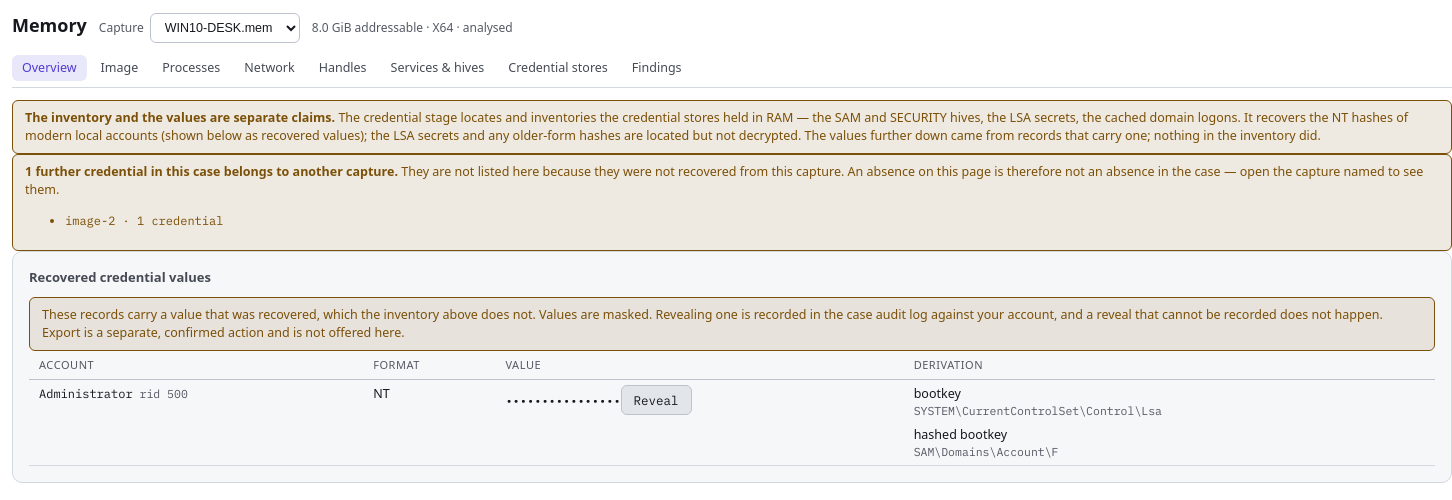
Test: MemoryCredentialsPage — recovered values › does not let one capture s in-flight reveal govern another capture s page (B3-056)
Click the button "Reveal": (656,400) [621, 385, 692, 415]
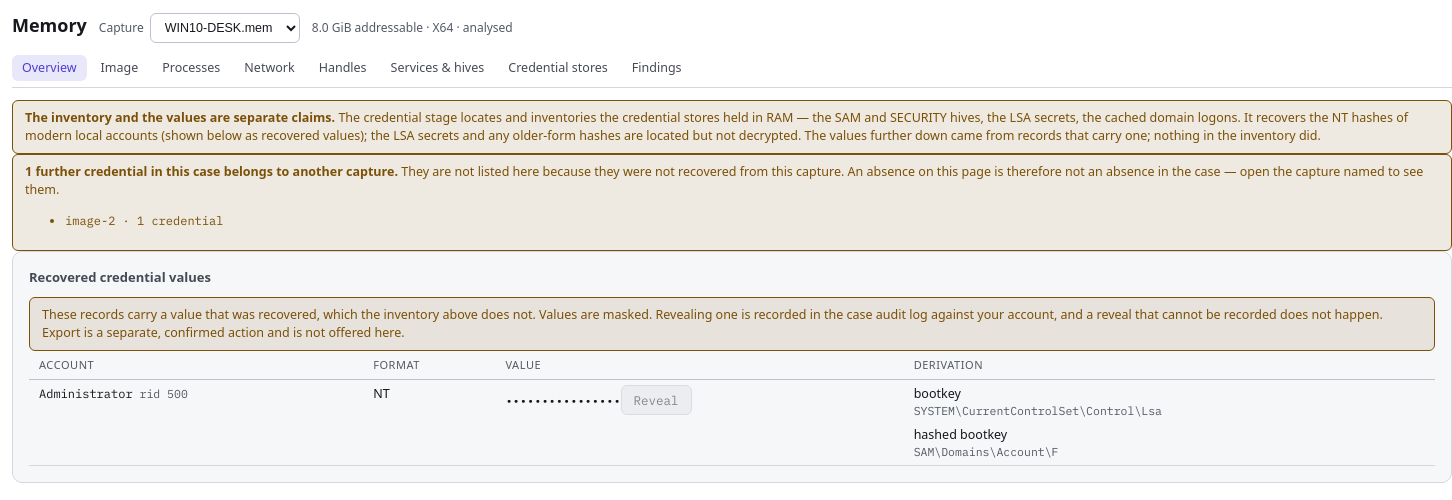
Select "SERVER.raw" in the dropdown labelled "Capture": (225,28) [150, 13, 300, 43]
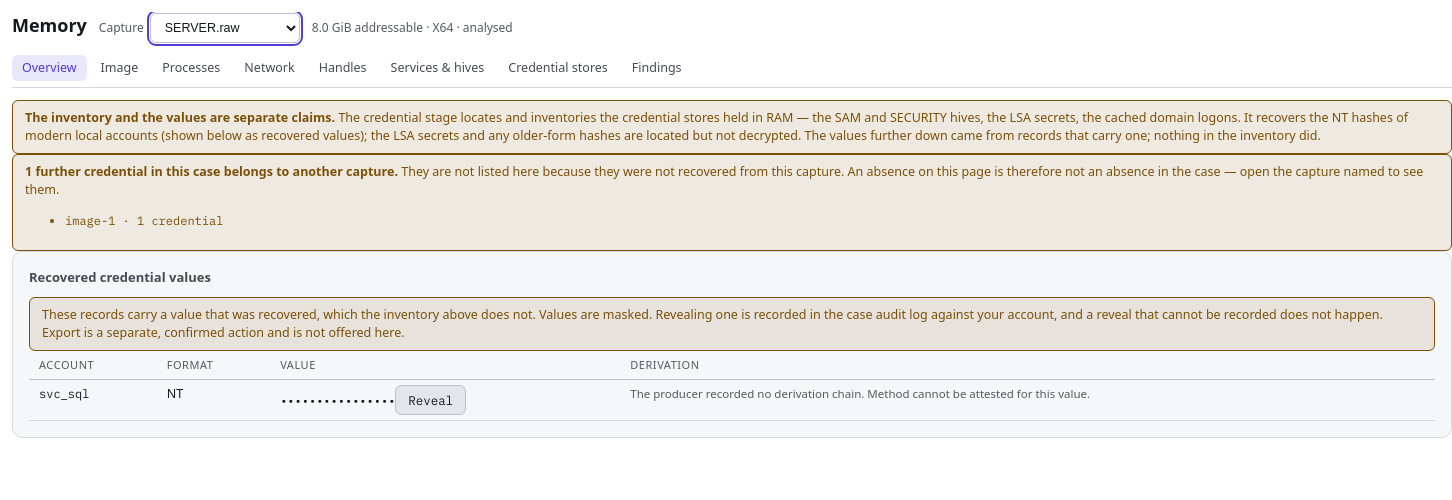
Expected: the text named "value masked" is shown, [280, 393, 395, 408]
Now the text "svc_sql" is shown, box [29, 379, 157, 420]
Now the button "Reveal" is enabled, box [395, 385, 466, 415]
